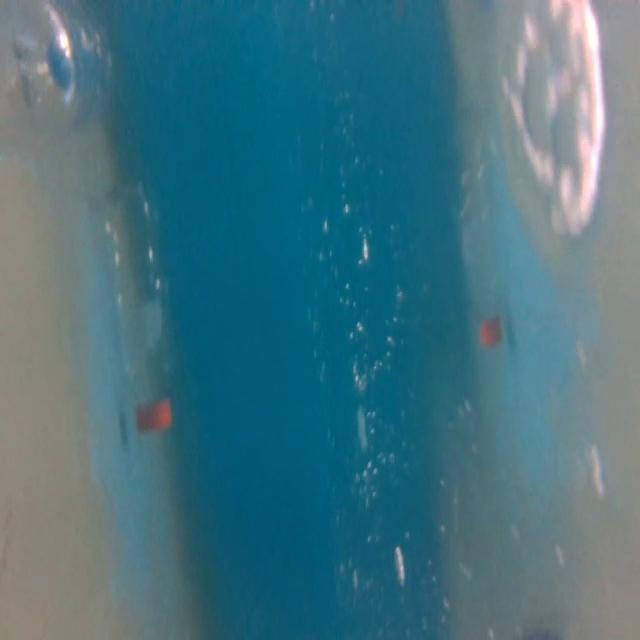plastic bottle: (89, 180, 200, 440)
